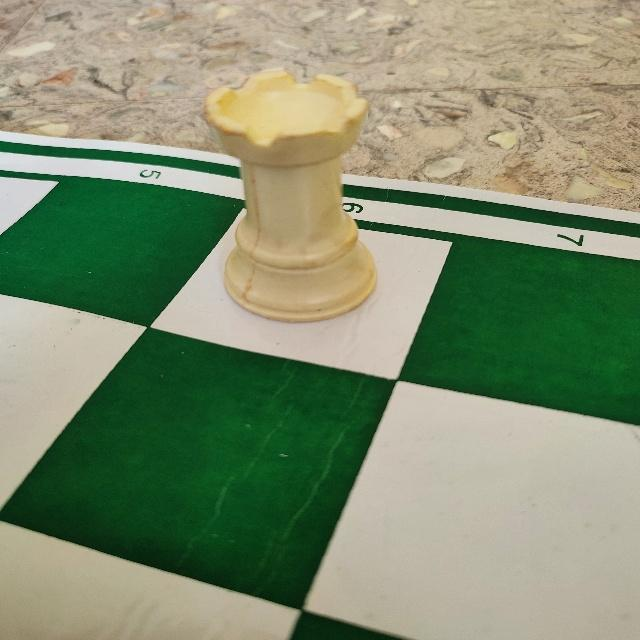Rook: (202, 66, 382, 326)
